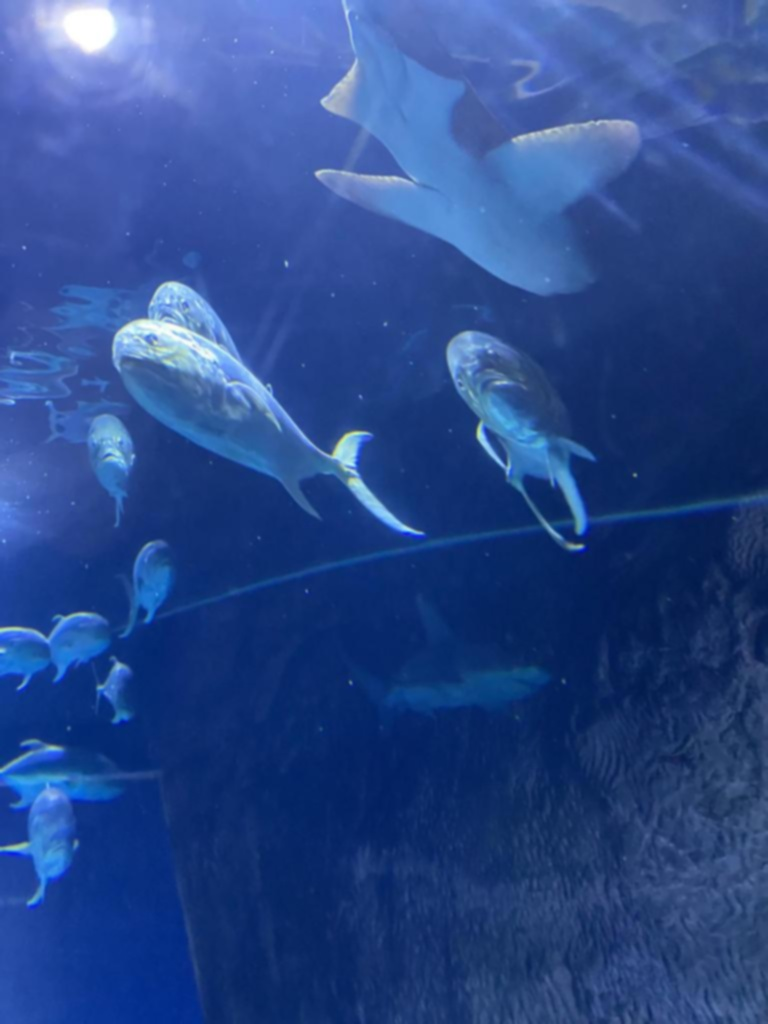fish: (108, 328, 420, 546), (437, 323, 617, 533), (133, 286, 283, 412), (0, 737, 143, 805), (14, 782, 88, 902), (32, 606, 116, 676), (121, 538, 183, 632), (93, 412, 143, 506), (0, 618, 59, 697), (90, 666, 156, 728)
shark: (302, 8, 636, 298), (338, 596, 552, 724)
